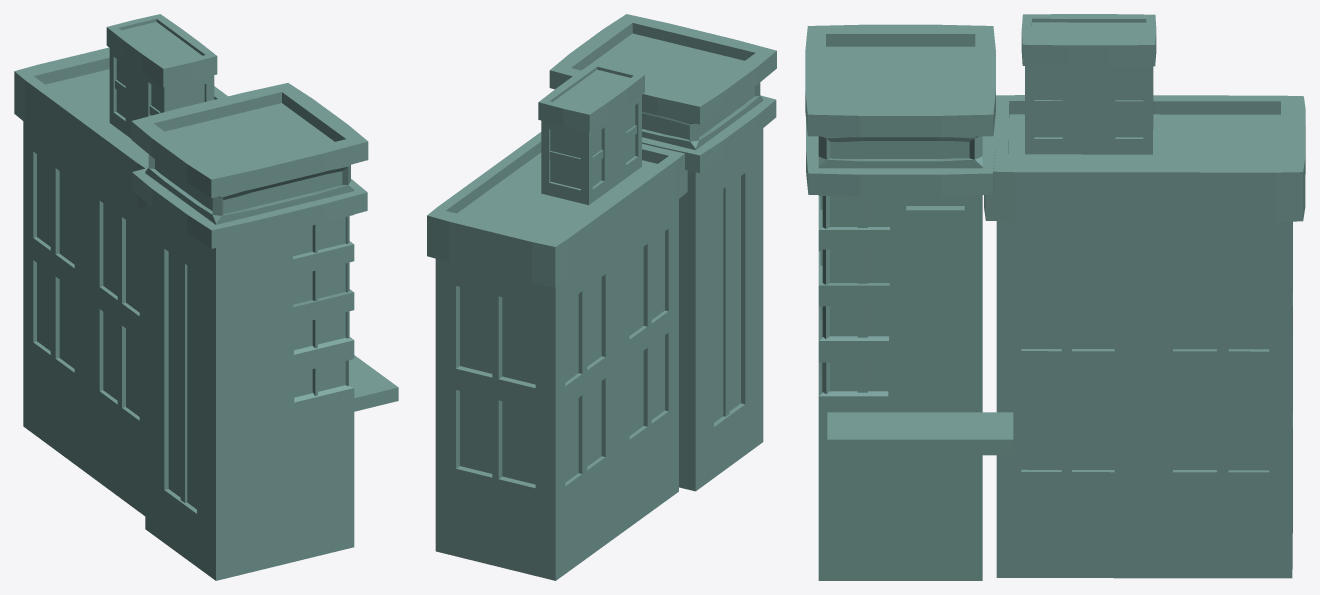
Rendered from building 14.fbx.
The picture shows the model from 3 angles, left to right: view 1: azimuth 30°, elevation 25°; view 2: azimuth 150°, elevation 25°; view 3: azimuth 270°, elevation 25°; orthographic projection. The views are drawn at different scales.
Parts seen in each view (by area): view 1: building 14; view 2: building 14; view 3: building 14.
Boxes of the visible parts, x1,y1,x2,y2 form: building 14: (14,14,398,580); building 14: (427,14,776,580); building 14: (805,14,1305,580).
Size of the model in its own units: 1719 by 3648 by 3251.
